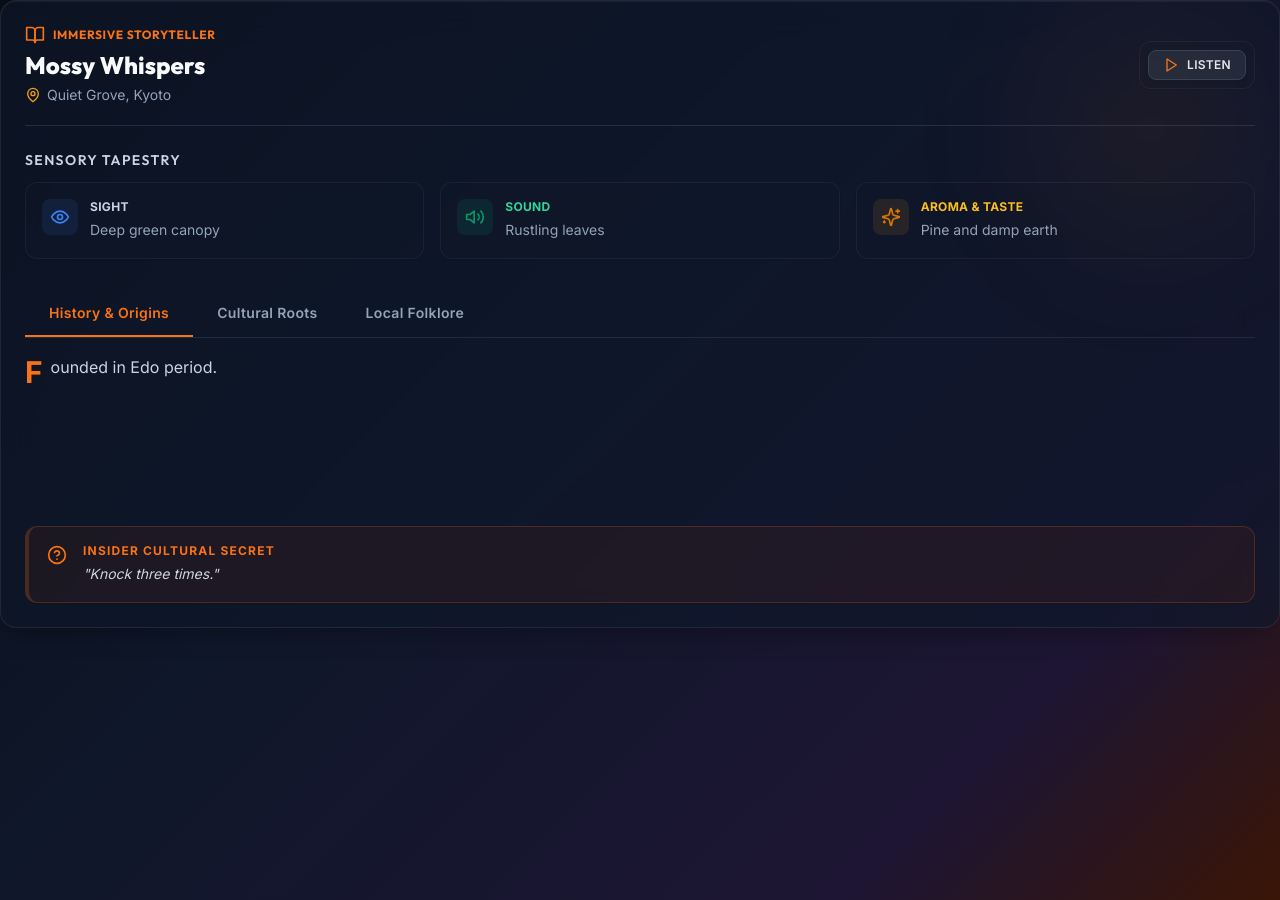
Test: CultureConnect UI Components Unit & Integration Tests › StorytellingCard Component › should shift active content and tabs on click
expect the text "Founded in Edo period." is shown: met, box [25, 354, 217, 390]
# Click cultural tab
What coordinates should you click on to do the following:
click the tab "Cultural Roots"
I would click on:
 (267, 314)
Its box is [193, 291, 342, 337].
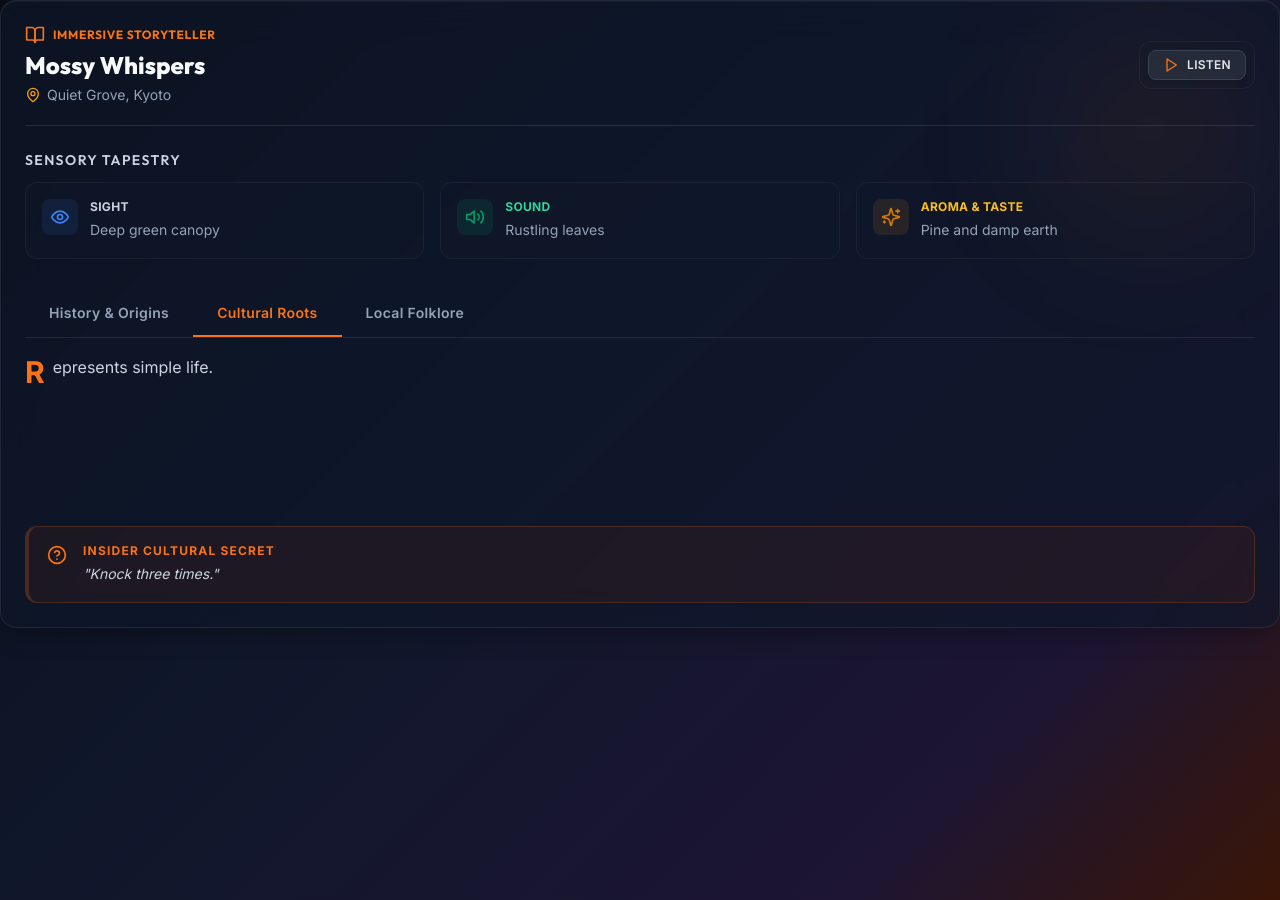
expect the text "Represents simple life." is shown: met, box [25, 354, 213, 390]
# Click legend tab
What coordinates should you click on to do the following:
click the tab "Local Folklore"
I would click on:
 (415, 314)
Its box is [342, 291, 488, 337].
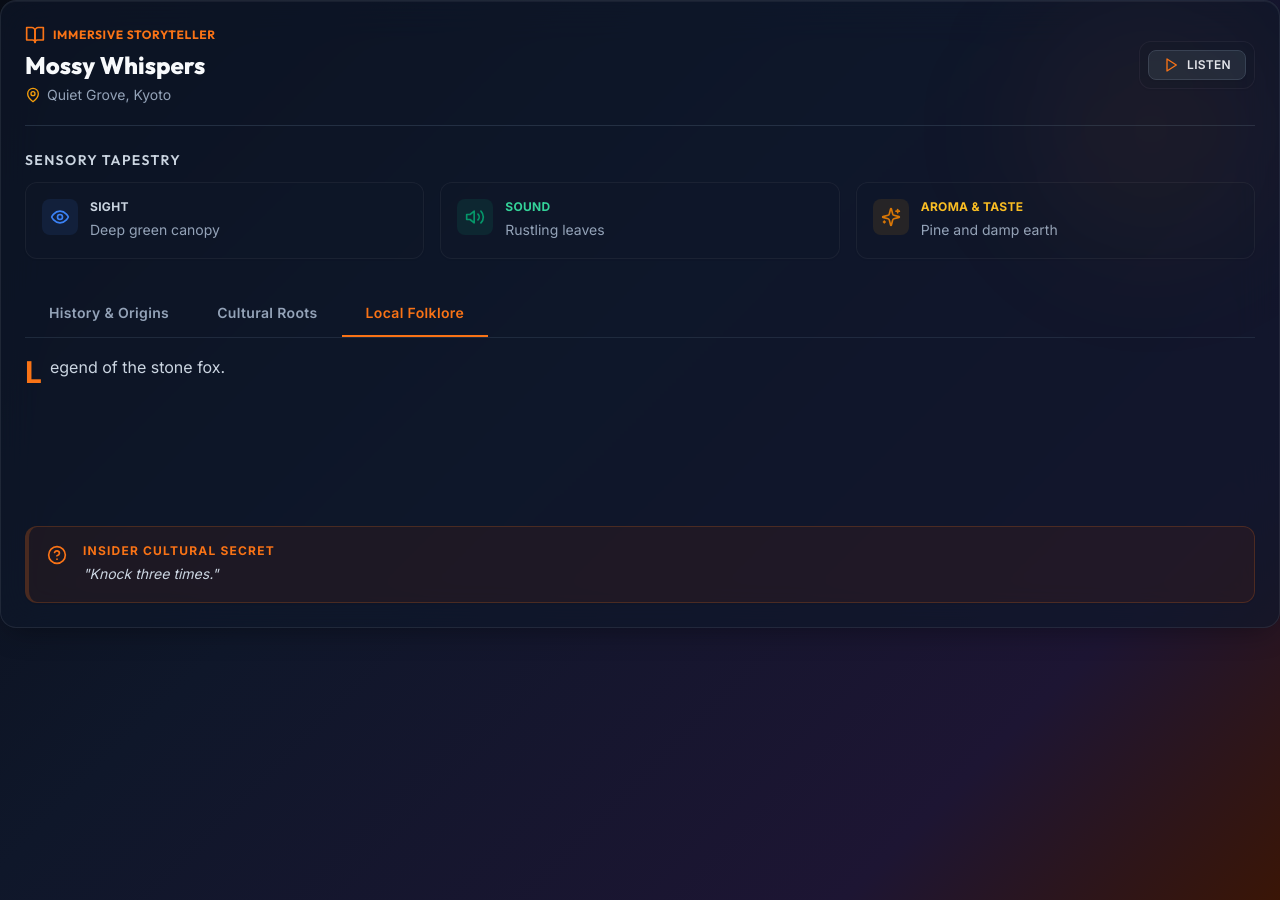
expect the text "Legend of the stone fox." is shown: met, box [25, 354, 225, 390]
